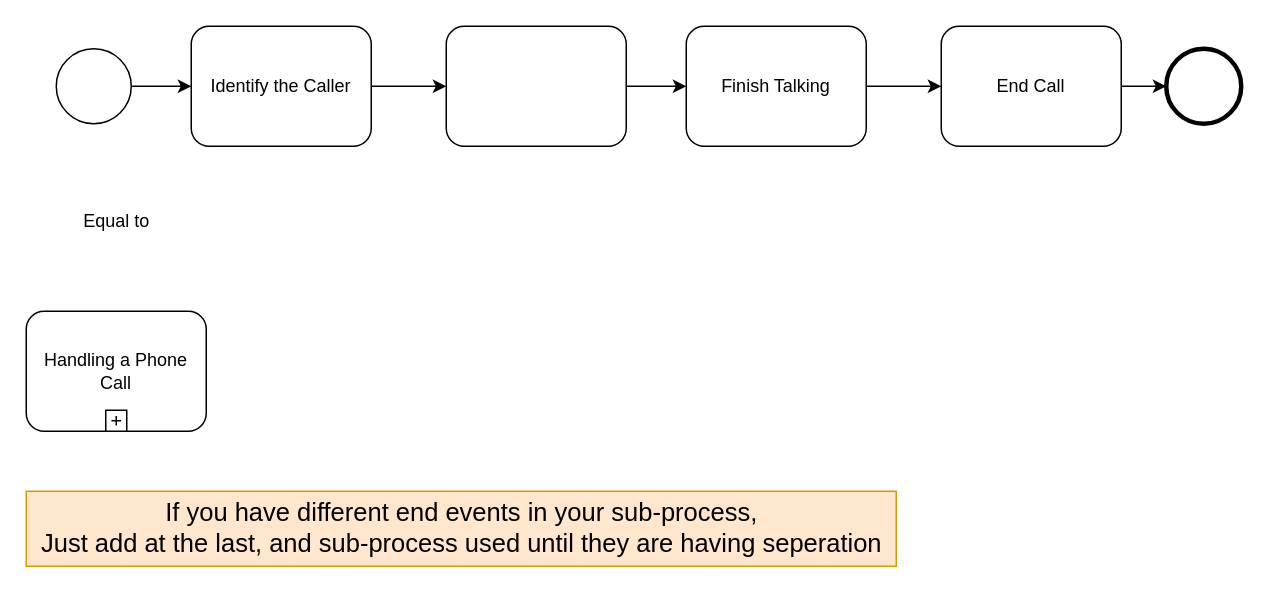
Some shapes in this 1277 by 593 pixel diagram are drawn without their labels. The shapes that lost their labels are listed below. From the top down, each one's centre as x and y in pixels, then its label:
the point at 93,85: Call Received
the point at 535,85: Answer the Phone
the point at 1203,85: Call Ended
